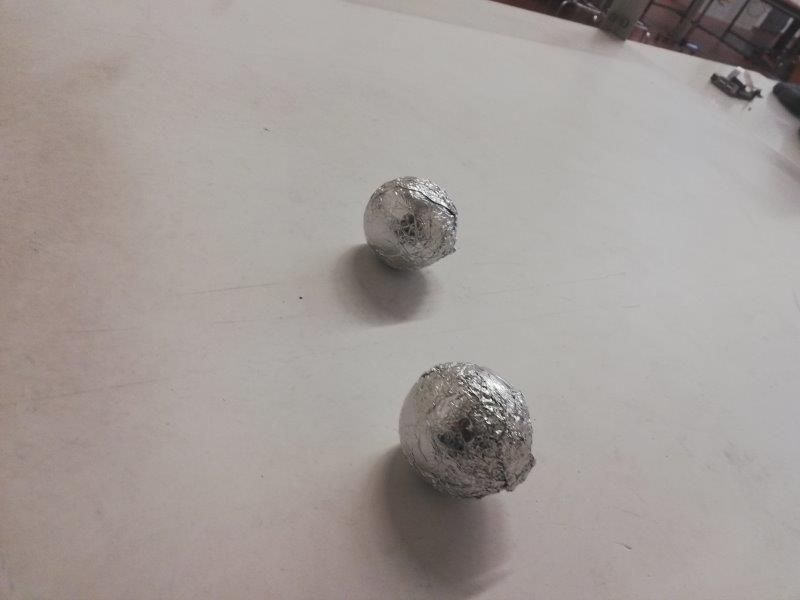bianca: (396, 360, 537, 499), (362, 173, 458, 272)
